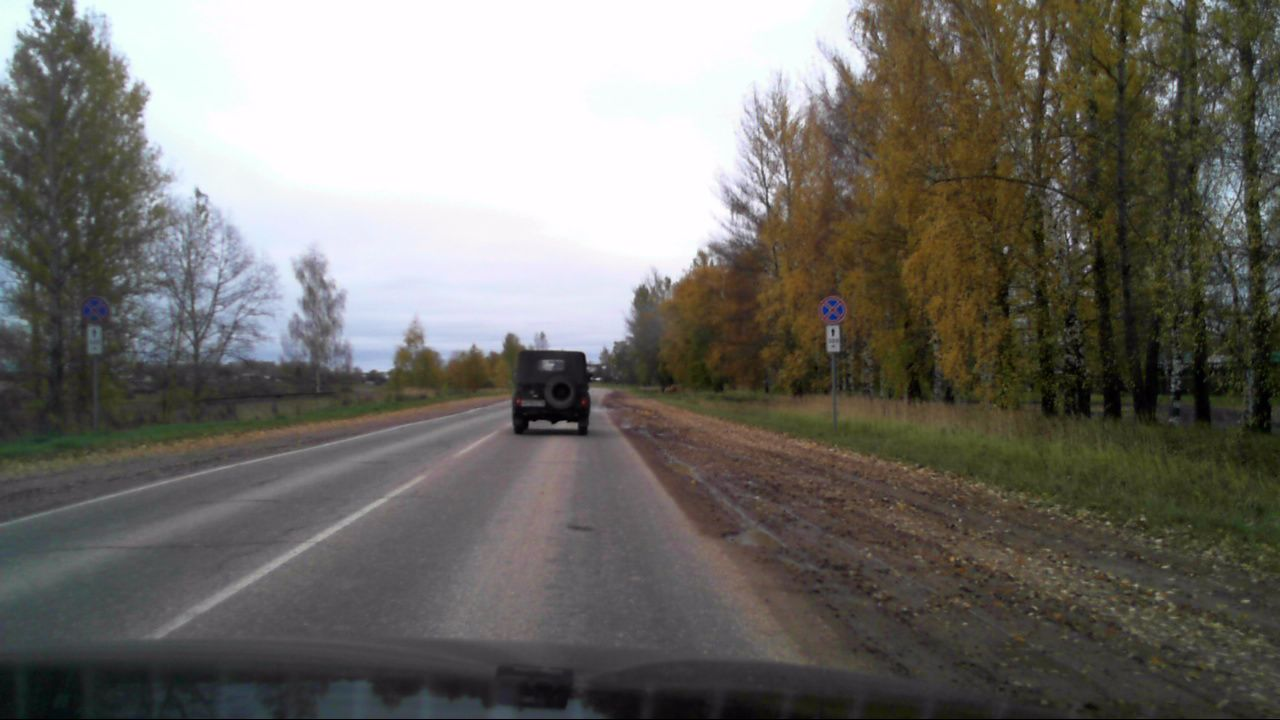No Parking: (81, 295, 109, 325)
